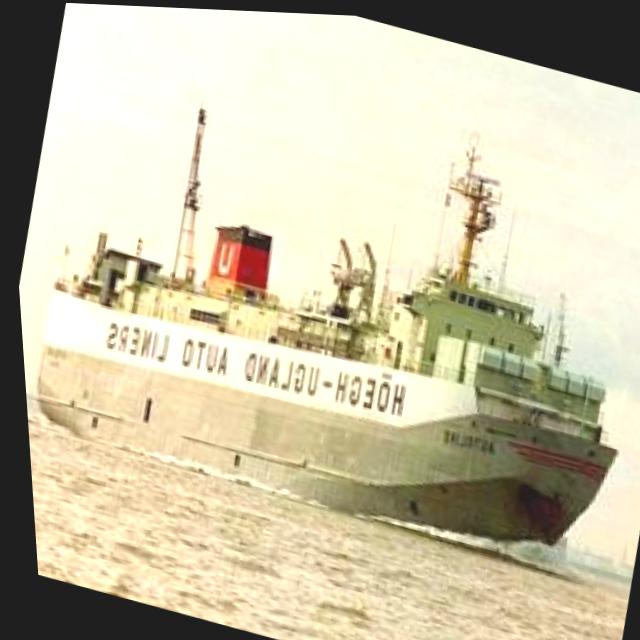ship2: (27, 99, 613, 544)
